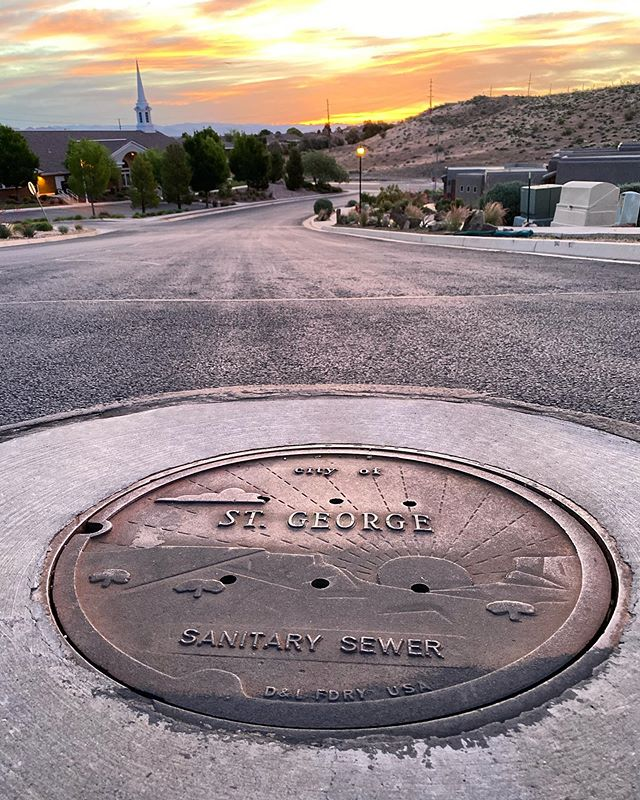building: (1, 88, 189, 182)
manhole cover: (26, 424, 640, 789)
sky: (15, 1, 640, 107)
street: (1, 200, 640, 800)
